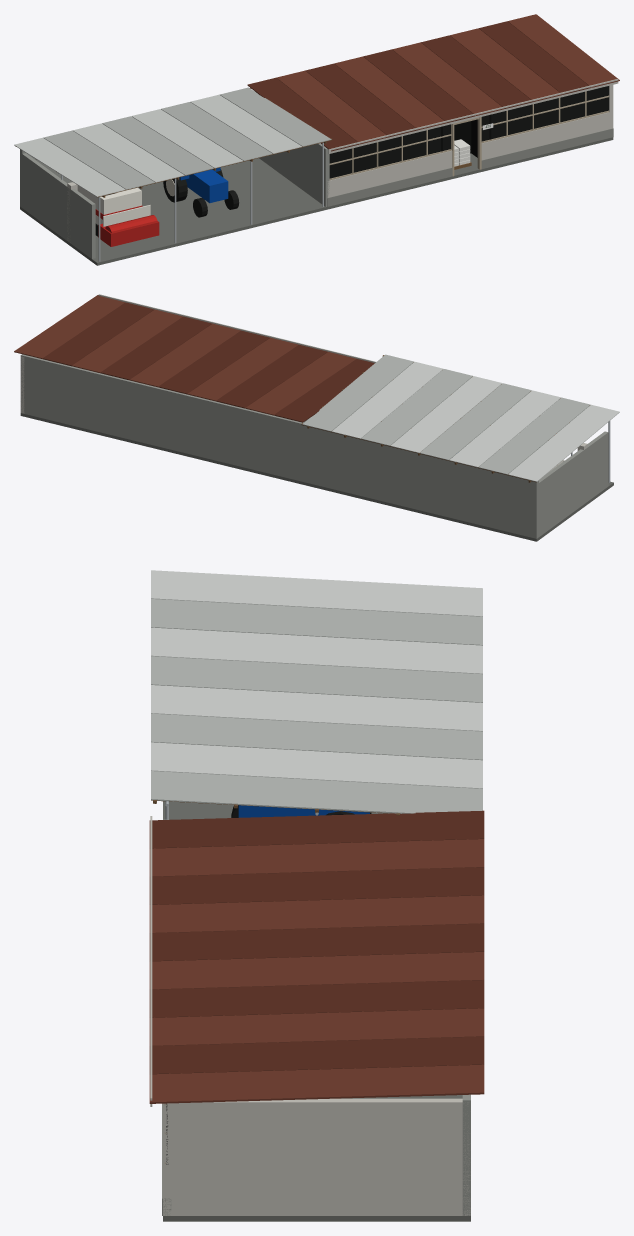
File: warehouse_2.glb
3 views of the same model, one above another, from view 1: azimuth 30°, elevation 25°; view 2: azimuth 150°, elevation 25°; view 3: azimuth 270°, elevation 25° (orthographic). The views are drawn at different scales.
Parts seen in each view (by area): view 1: WH2_CombinedMesh; view 2: WH2_CombinedMesh; view 3: WH2_CombinedMesh.
Boxes of the visible parts, x1,y1,x2,y2 form: WH2_CombinedMesh: [14, 14, 619, 265]; WH2_CombinedMesh: [14, 294, 619, 541]; WH2_CombinedMesh: [149, 570, 484, 1221].
Bounding box in the file's own units: 22.72 × 3 × 6.3.
